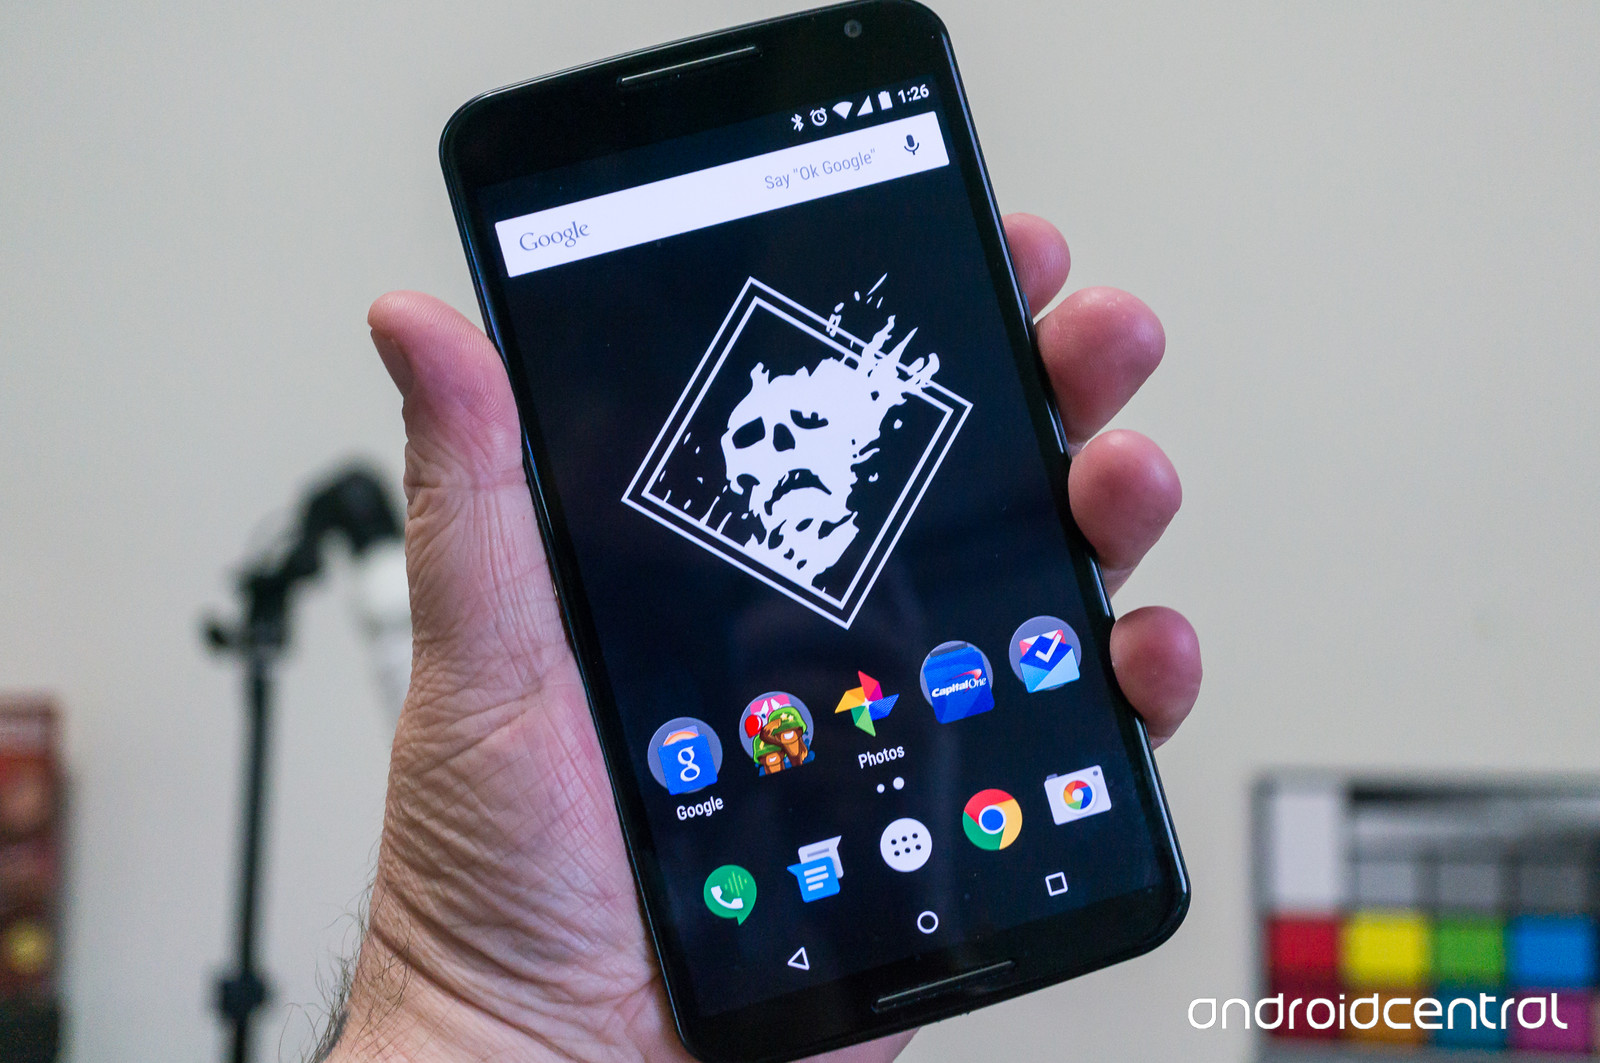smartphone: (438, 1, 1193, 1063)
